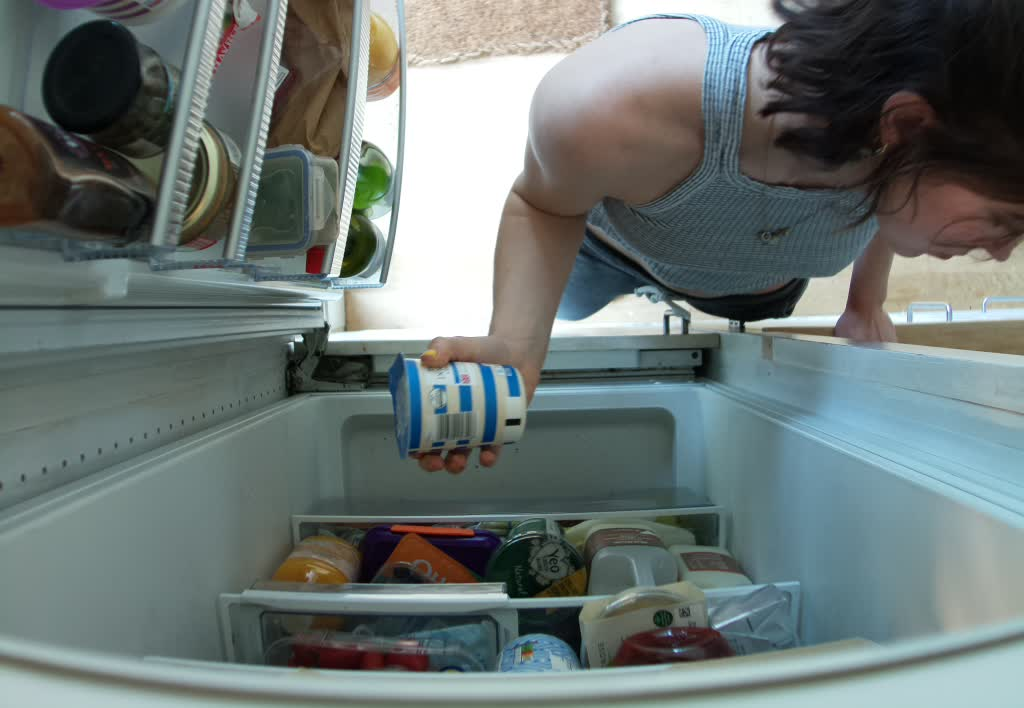cream: (389, 352, 526, 461)
